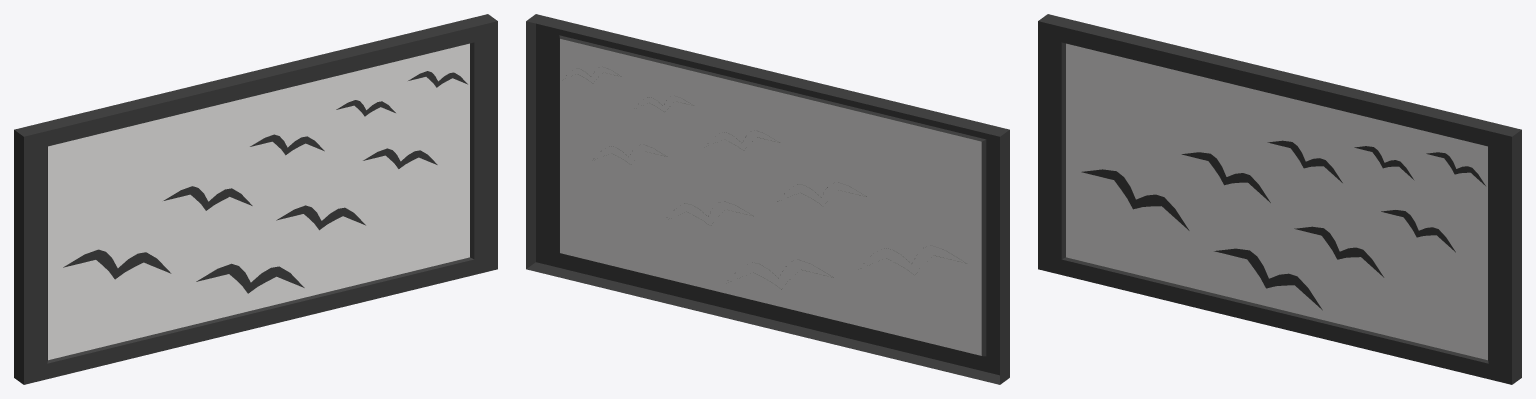
File: Picture_18.fbx
3 renders of one model, left to right at view 1: azimuth 30°, elevation 25°; view 2: azimuth 150°, elevation 25°; view 3: azimuth 330°, elevation 25°, orthographic.
Visible parts, largest first — view 1: Picture_18; view 2: Picture_18; view 3: Picture_18.
Boxes of the visible parts, x1=… form: Picture_18: x1=14, y1=14, x2=497, y2=384; Picture_18: x1=526, y1=14, x2=1009, y2=384; Picture_18: x1=1038, y1=14, x2=1521, y2=384.
Bounding box in the file's own units: 198 × 7.06 × 98.85.
